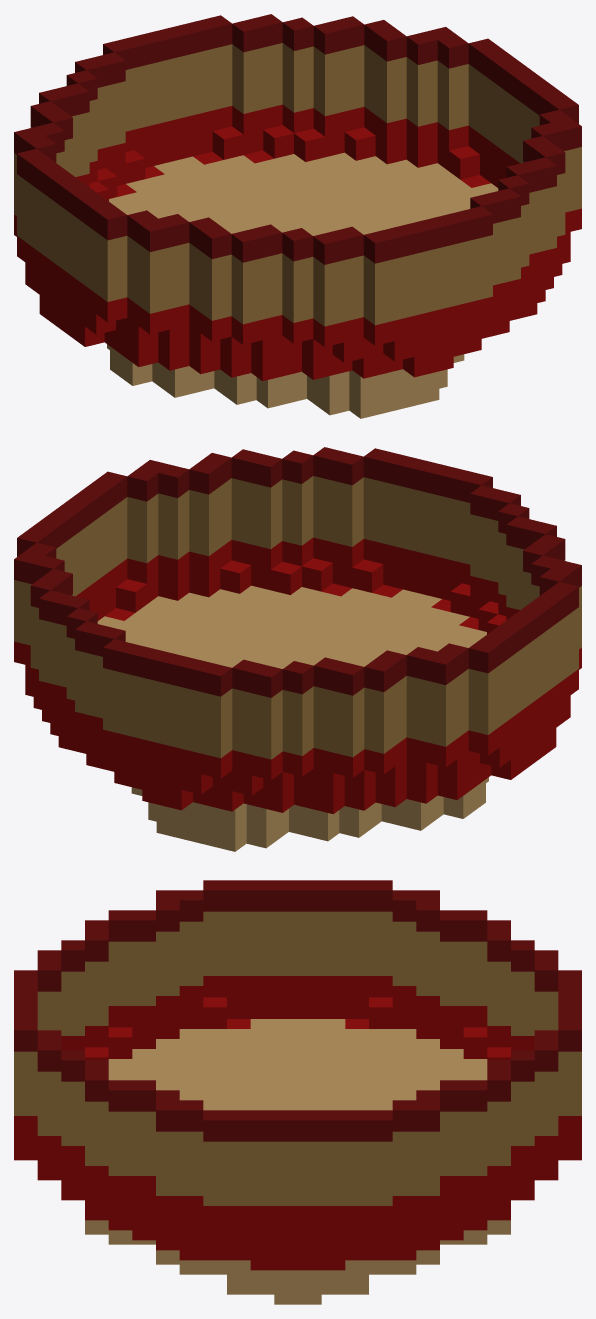
The model's file is Medieval Assets-50-Decoration - Desert - Urn Shallow - Variant1.obj.
3 renders of one model, top to bottom at view 1: azimuth 30°, elevation 25°; view 2: azimuth 150°, elevation 25°; view 3: azimuth 270°, elevation 25°, orthographic. The views are drawn at different scales.
Parts seen in each view (by area): view 1: Decoration - Desert - Urn Shallow - Variant1; view 2: Decoration - Desert - Urn Shallow - Variant1; view 3: Decoration - Desert - Urn Shallow - Variant1.
Boxes of the visible parts, x1,y1,x2,y2 form: Decoration - Desert - Urn Shallow - Variant1: (14, 14, 581, 418); Decoration - Desert - Urn Shallow - Variant1: (14, 447, 581, 851); Decoration - Desert - Urn Shallow - Variant1: (14, 880, 581, 1304).
Size of the model in its own units: 2.4 by 1 by 2.4.
Materials: 1 (1 with a texture image).
